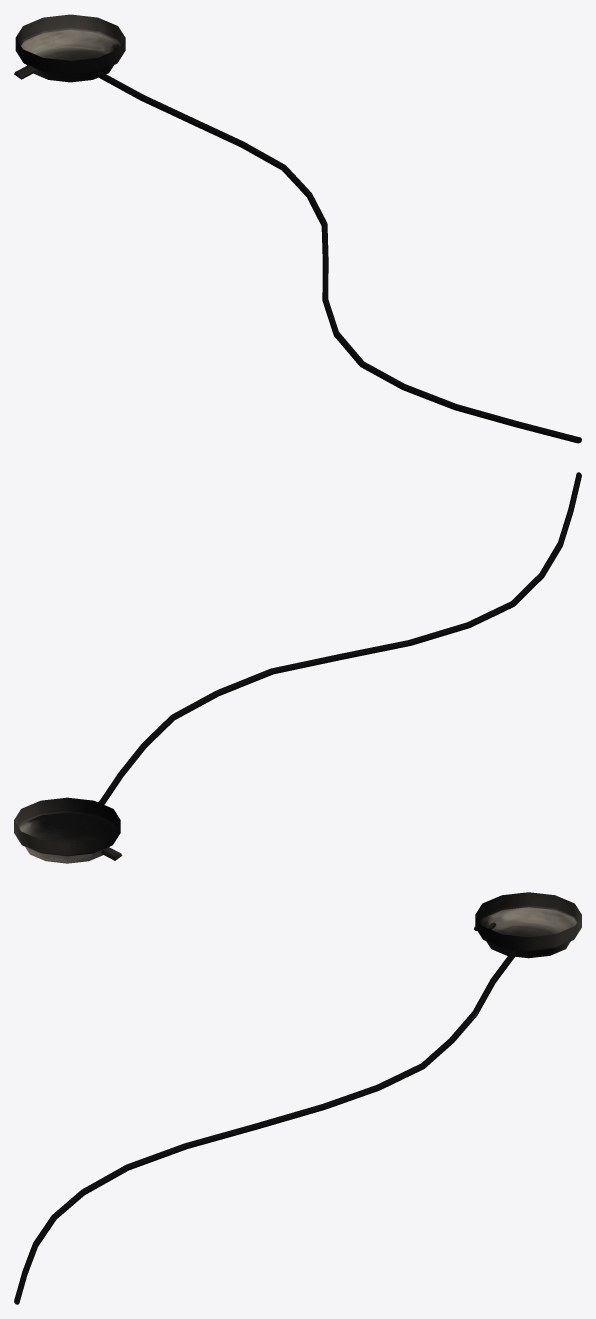
The model's file is BurntCeilingWire.fbx.
3 renders of one model, top to bottom at view 1: azimuth 30°, elevation 25°; view 2: azimuth 150°, elevation 25°; view 3: azimuth 330°, elevation 25°, orthographic. The views are drawn at different scales.
Parts seen in each view (by area): view 1: BurntCeilingWire_Base, BurntCeilingWire_Cord; view 2: BurntCeilingWire_Base, BurntCeilingWire_Cord; view 3: BurntCeilingWire_Base, BurntCeilingWire_Cord.
Boxes of the visible parts, left/top/right/bottom form: BurntCeilingWire_Base: left=15, top=14, right=125, bottom=82; BurntCeilingWire_Cord: left=96, top=71, right=581, bottom=443; BurntCeilingWire_Base: left=14, top=797, right=120, bottom=863; BurntCeilingWire_Cord: left=77, top=472, right=581, bottom=829; BurntCeilingWire_Base: left=475, top=892, right=581, bottom=958; BurntCeilingWire_Cord: left=14, top=950, right=516, bottom=1304.
Size of the model in its own units: 66.54 by 15.58 by 444.
